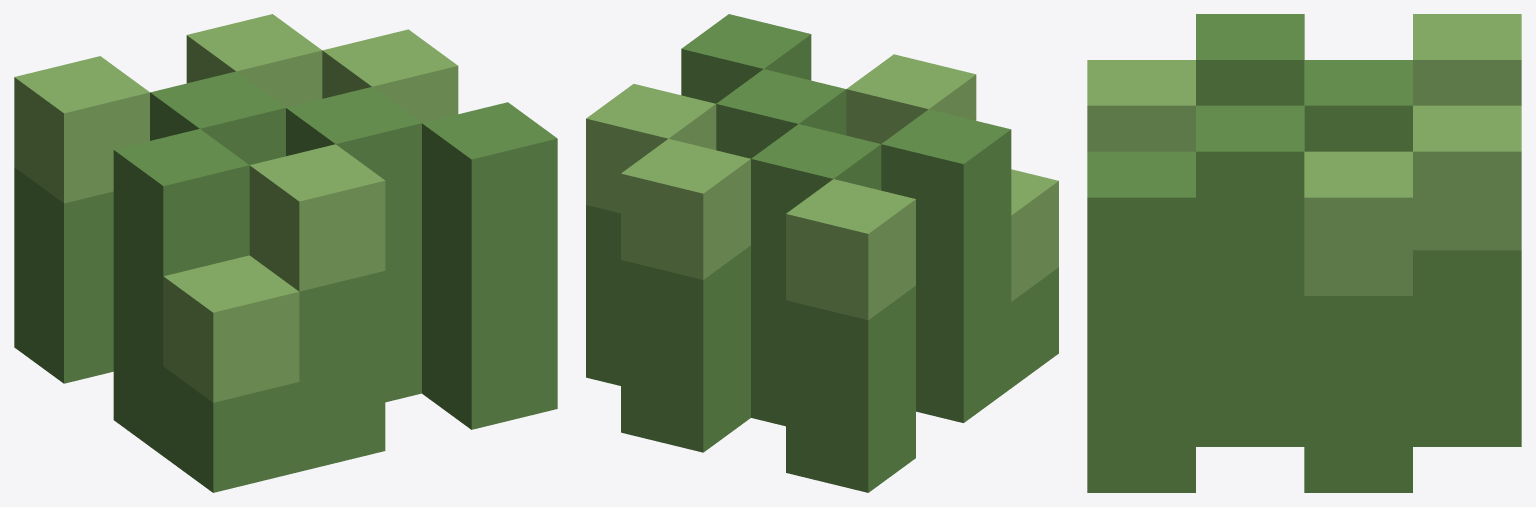
Rendered from hearthvale_prop_grass.obj.
3 renders of one model, left to right at view 1: azimuth 30°, elevation 25°; view 2: azimuth 150°, elevation 25°; view 3: azimuth 270°, elevation 25°, orthographic. The views are drawn at different scales.
Visible parts, largest first — view 1: palette_11, palette_12; view 2: palette_11, palette_12; view 3: palette_11, palette_12.
Part boxes in pixels (left/top/right/bottom): palette_11: left=14, top=71, right=557, bottom=492; palette_12: left=14, top=14, right=458, bottom=402; palette_11: left=586, top=14, right=1058, bottom=492; palette_12: left=586, top=54, right=1058, bottom=320; palette_11: left=1087, top=14, right=1521, bottom=492; palette_12: left=1087, top=14, right=1521, bottom=295.
Size of the model in its own units: 0.25 by 0.1875 by 0.25.
